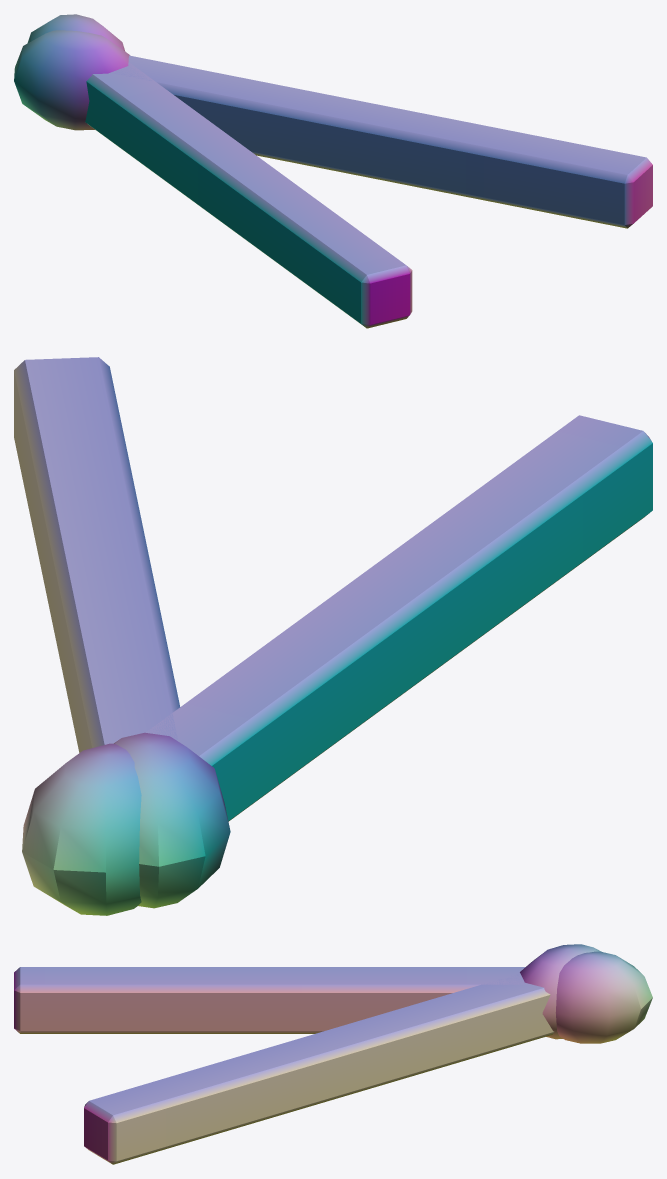
The model's file is env_deco_match.glb.
The picture shows the model from 3 angles, top to bottom: view 1: azimuth 30°, elevation 25°; view 2: azimuth 150°, elevation 25°; view 3: azimuth 270°, elevation 25°; orthographic projection. The views are drawn at different scales.
Visible parts, largest first — view 1: env_deco_match_mesh; view 2: env_deco_match_mesh; view 3: env_deco_match_mesh.
Part boxes in pixels (x1,y1,x2,y2): env_deco_match_mesh: (14,14,652,328); env_deco_match_mesh: (14,357,652,915); env_deco_match_mesh: (14,944,652,1164).
Size of the model in its own units: 0.2573 by 0.06 by 0.41.
